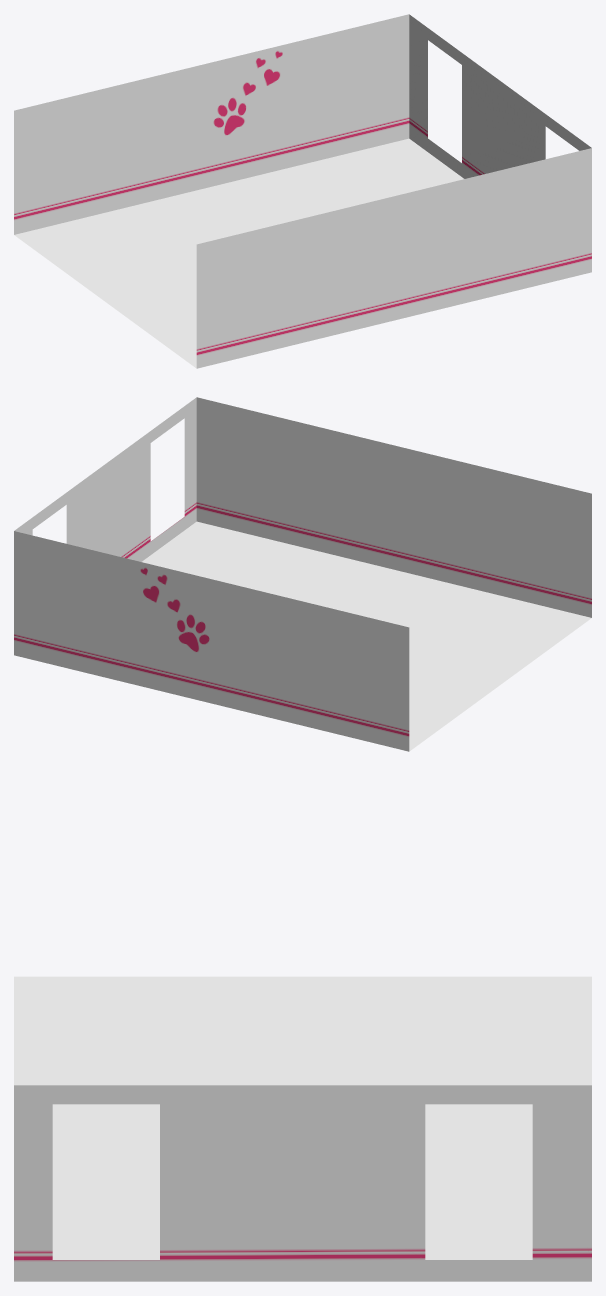
Rendered from wallsPink.FBX.
3 renders of one model, top to bottom at view 1: azimuth 30°, elevation 25°; view 2: azimuth 150°, elevation 25°; view 3: azimuth 270°, elevation 25°, orthographic. The views are drawn at different scales.
Parts seen in each view (by area): view 1: walls; view 2: walls; view 3: walls.
Boxes of the visible parts, x1,y1,x2,y2 form: walls: (14, 14, 591, 368); walls: (14, 397, 591, 751); walls: (14, 976, 591, 1281).
Bounding box in the file's own units: 619 × 186 × 496.
1 material, 1 textured.
